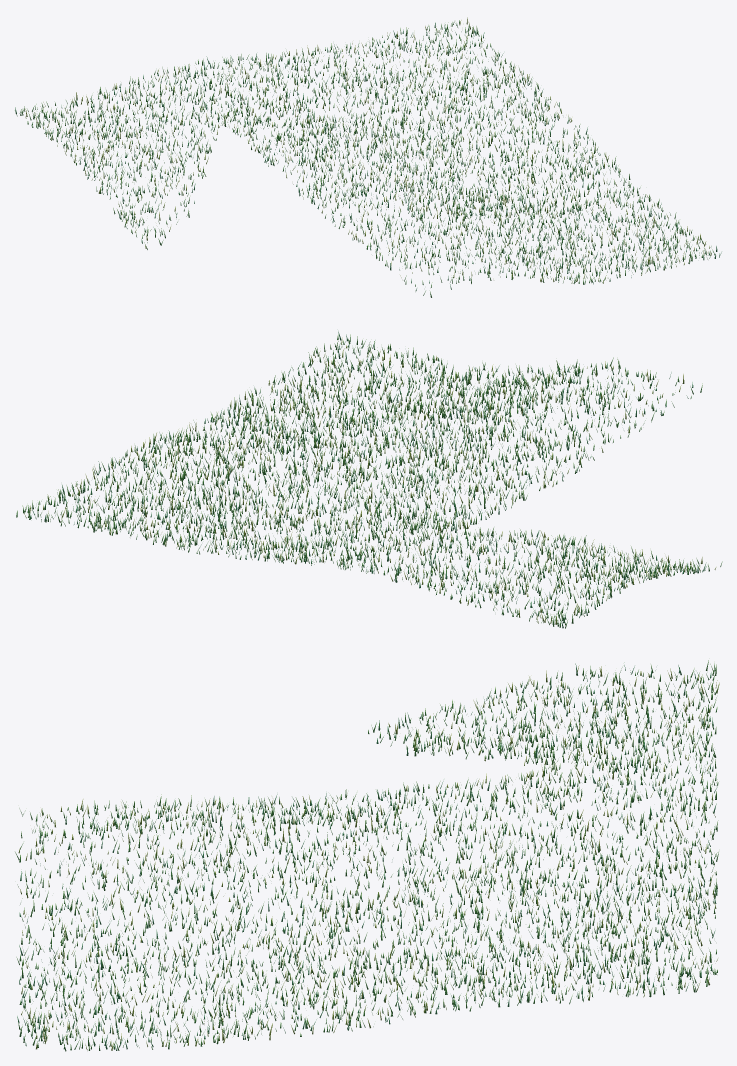
3 renders of one model, top to bottom at view 1: azimuth 30°, elevation 25°; view 2: azimuth 150°, elevation 25°; view 3: azimuth 270°, elevation 25°, orthographic. The views are drawn at different scales.
Parts seen in each view (by area): view 1: gc_8; view 2: gc_8; view 3: gc_8.
Part boxes in pixels (bbox=[...]): gc_8: bbox=[15, 17, 721, 297]; gc_8: bbox=[16, 331, 722, 628]; gc_8: bbox=[15, 660, 719, 1051].
Size of the model in its own units: 18.21 by 2.92 by 18.28.
1 material, 1 textured.
